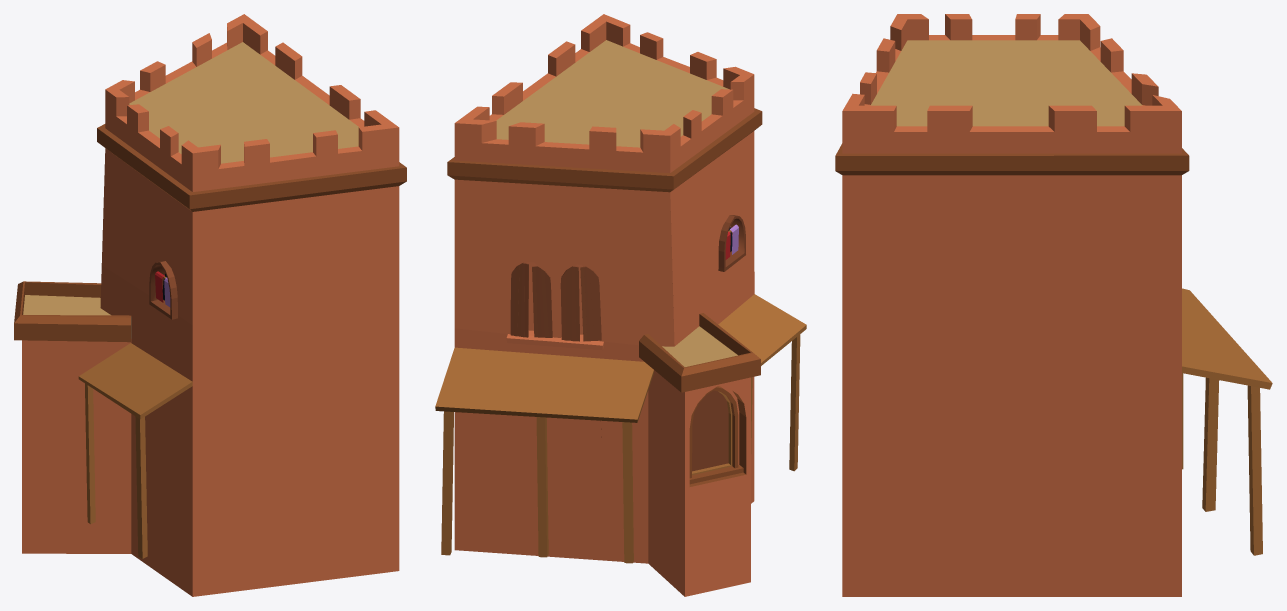
The model's file is Arab_house5.fbx.
3 views of the same model, side by side, from view 1: azimuth 30°, elevation 25°; view 2: azimuth 150°, elevation 25°; view 3: azimuth 270°, elevation 25° (orthographic). The views are drawn at different scales.
Parts seen in each view (by area): view 1: house; view 2: house; view 3: house.
Part boxes in pixels (<box>): house: <box>14,14,406,596</box>; house: <box>435,14,806,596</box>; house: <box>835,14,1272,596</box>.
Bounding box in the file's own units: 921 × 1401 × 1143.
